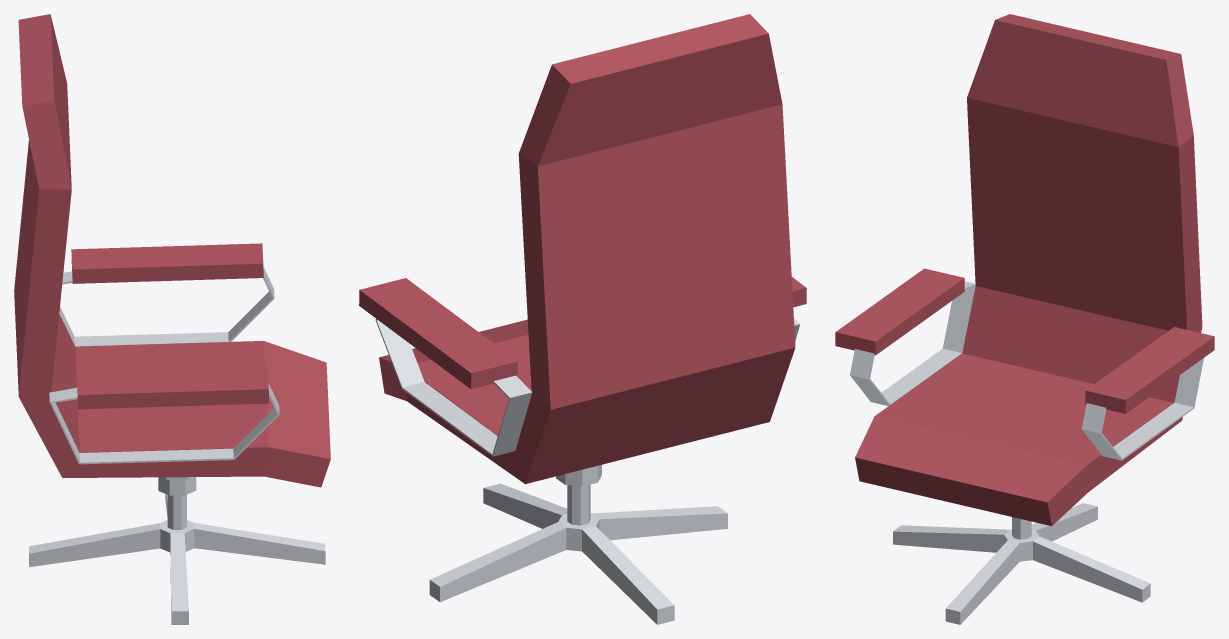
The model's file is base_chair_red.gltf.
The picture shows the model from 3 angles, left to right: view 1: azimuth 30°, elevation 25°; view 2: azimuth 150°, elevation 25°; view 3: azimuth 270°, elevation 25°; orthographic projection. The views are drawn at different scales.
Visible parts, largest first — view 1: Plane.013, Plane.014; view 2: Plane.013, Plane.014; view 3: Plane.013, Plane.014.
Boxes of the visible parts, x1,y1,x2,y2 form: Plane.013: [14, 14, 330, 624]; Plane.014: [49, 243, 279, 464]; Plane.013: [379, 14, 795, 624]; Plane.014: [359, 277, 806, 456]; Plane.013: [855, 14, 1202, 624]; Plane.014: [835, 268, 1214, 460].
Size of the model in its own units: 2.25 by 3.22 by 2.27.
